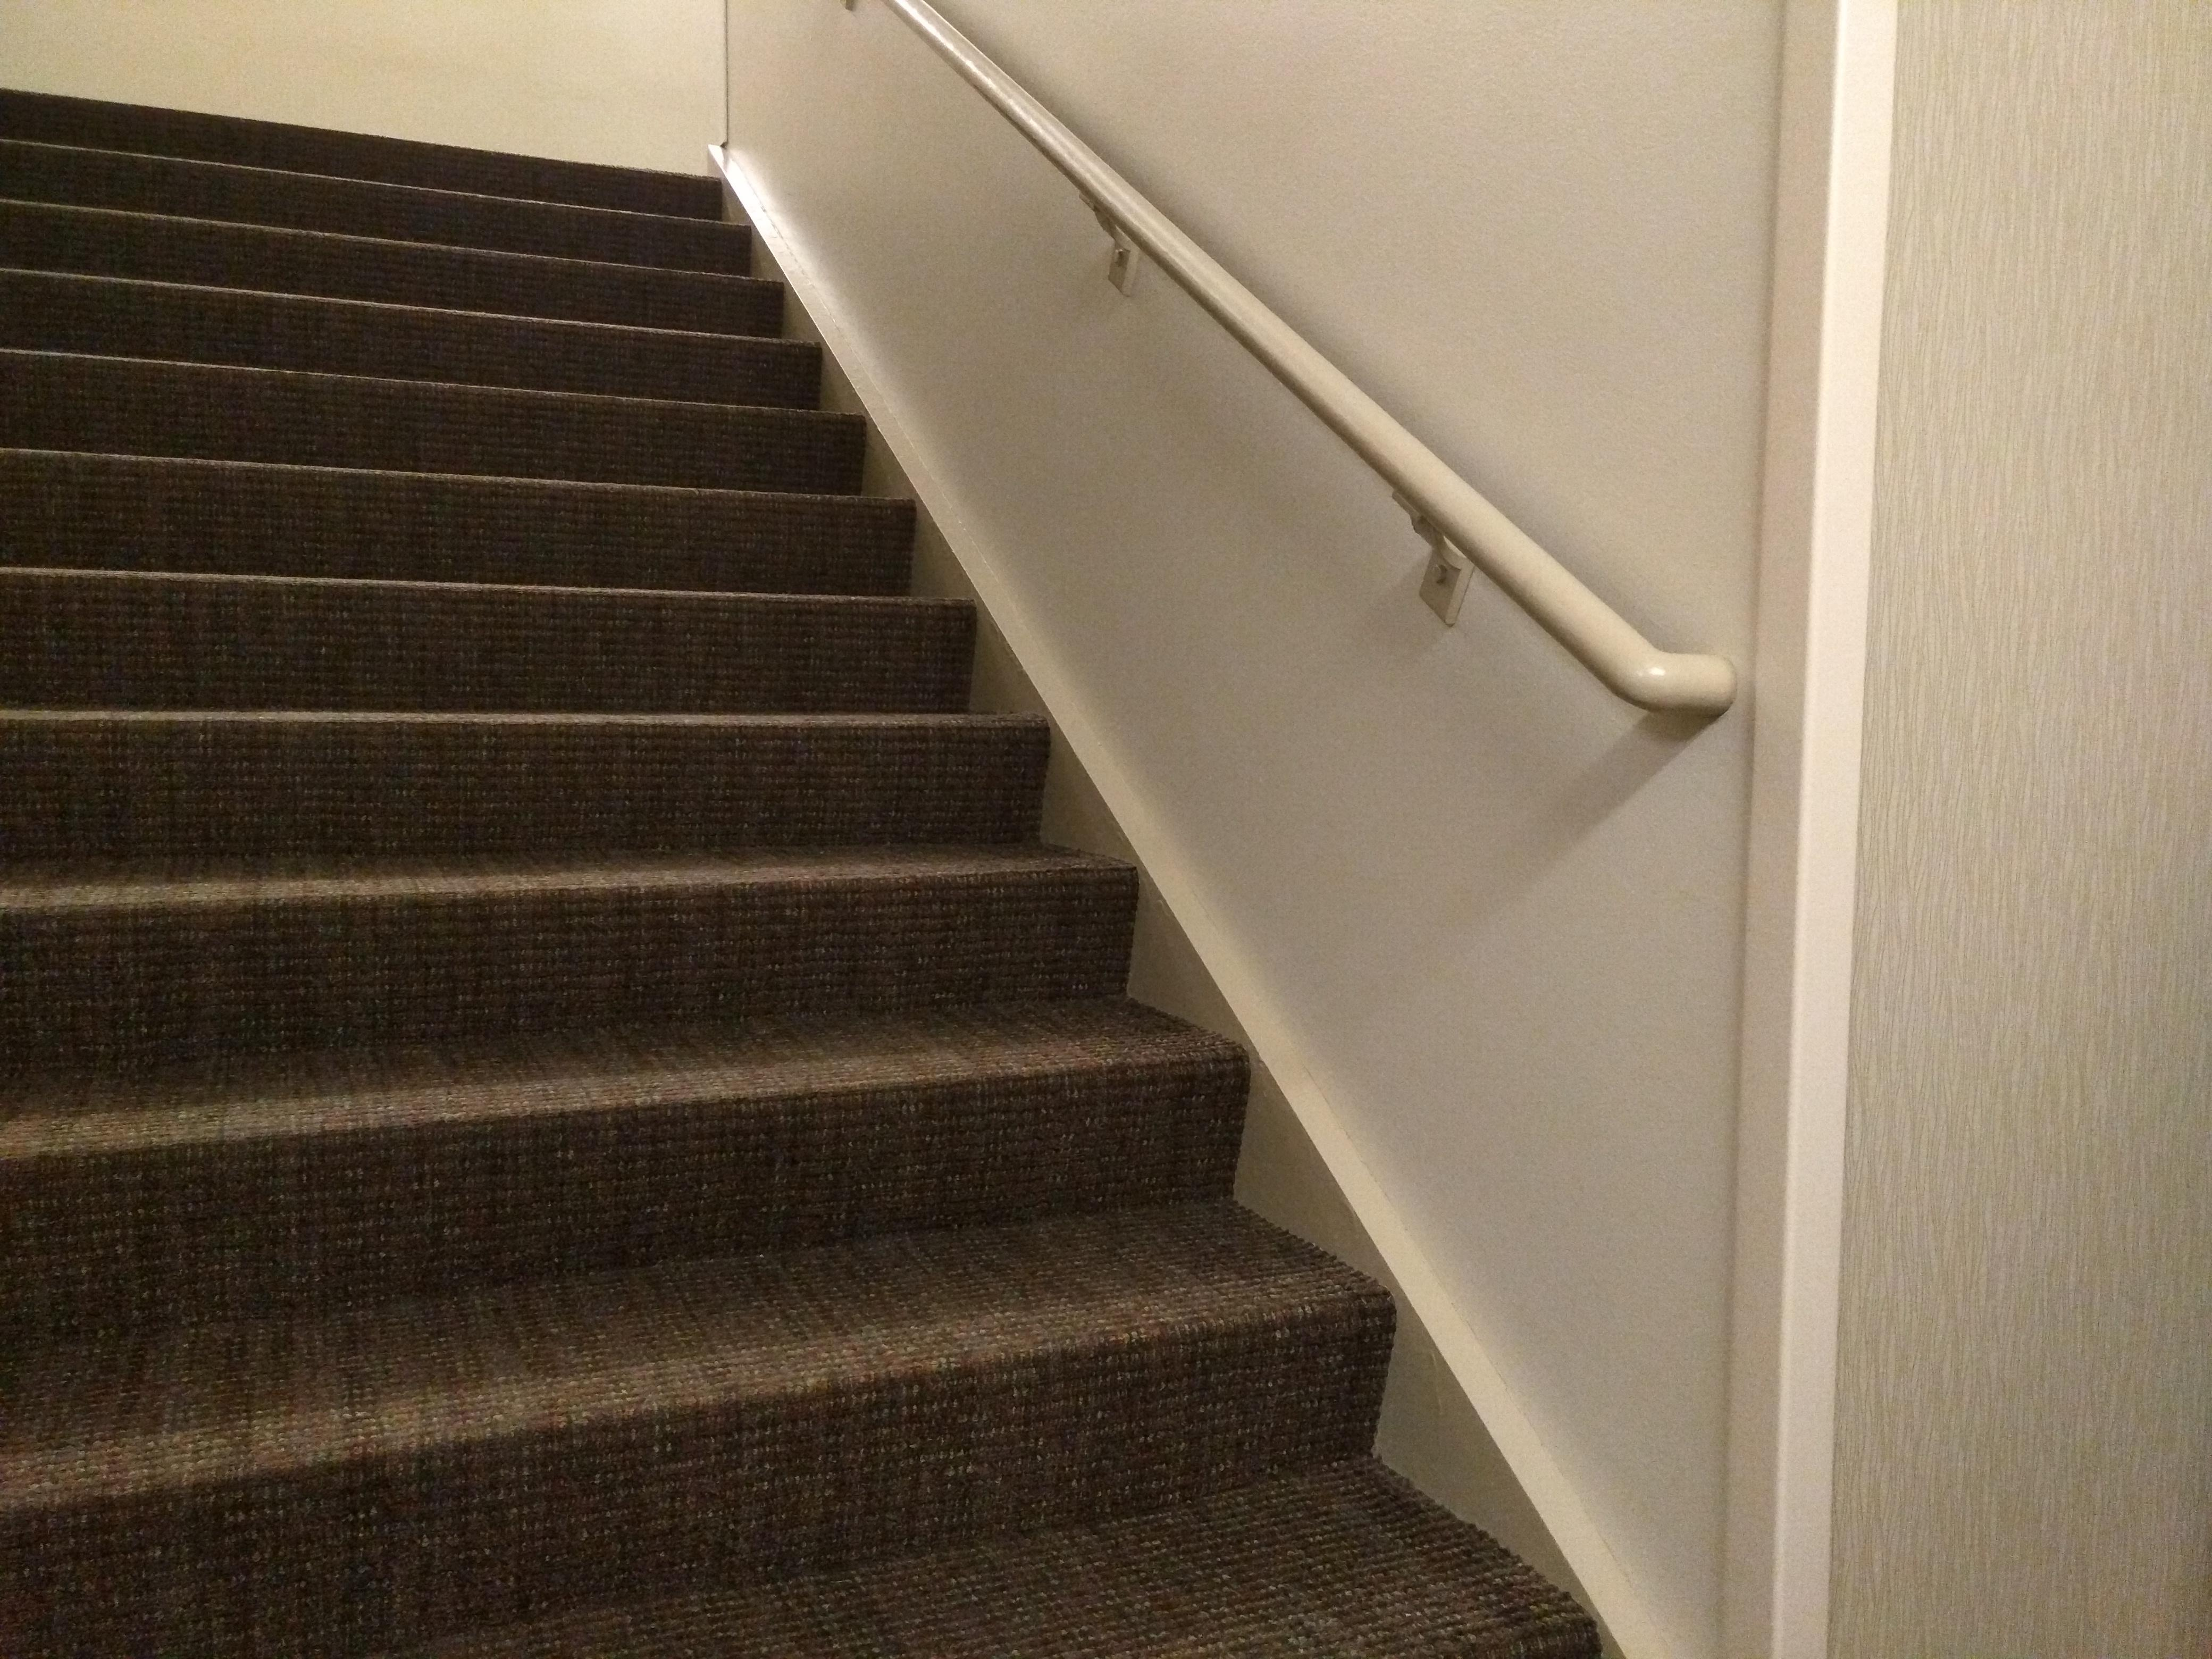stairs_up: (2, 77, 1425, 1567)
